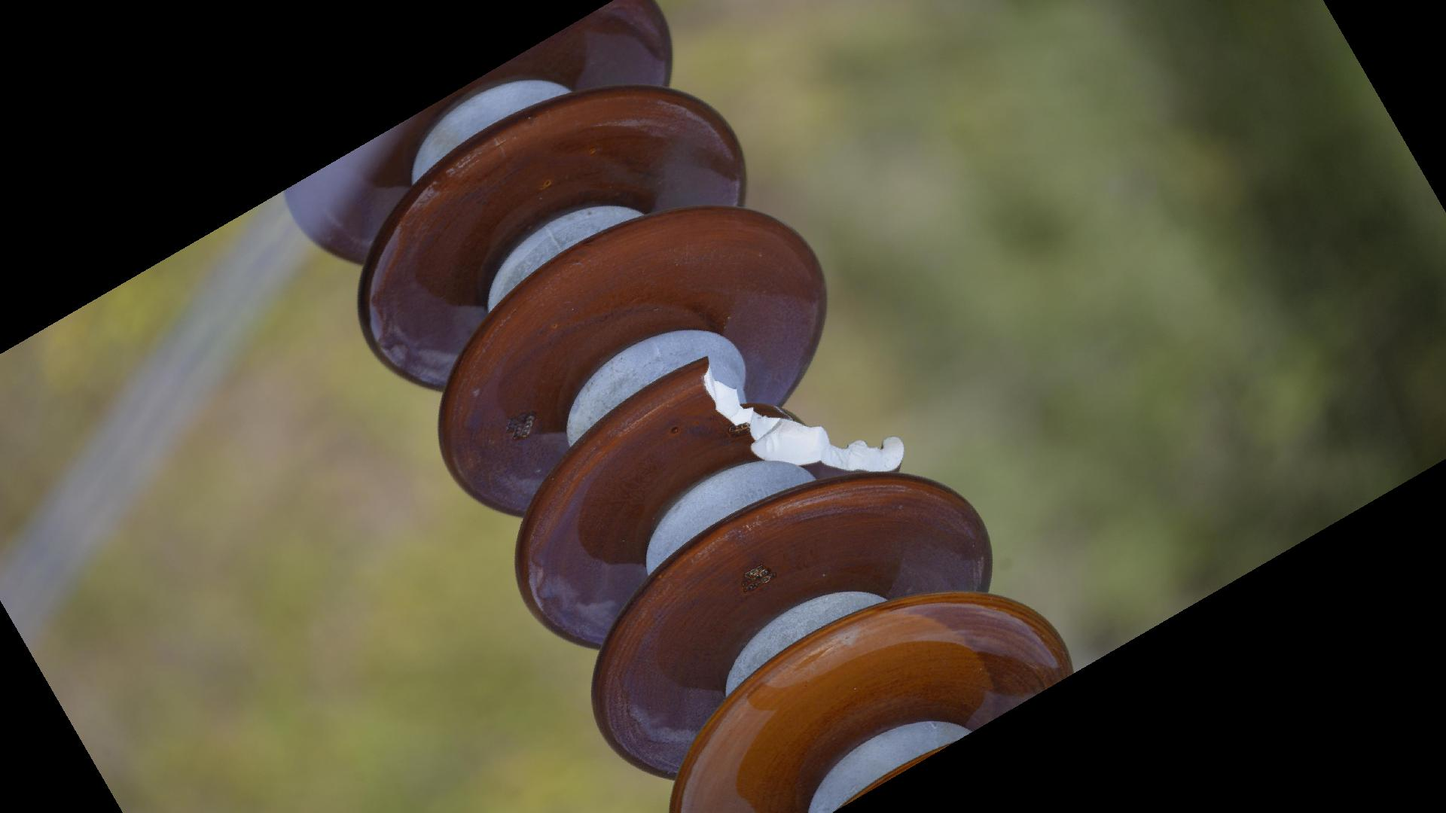insulator: (271, 1, 1081, 813)
insulator_breakage: (688, 352, 910, 483)
